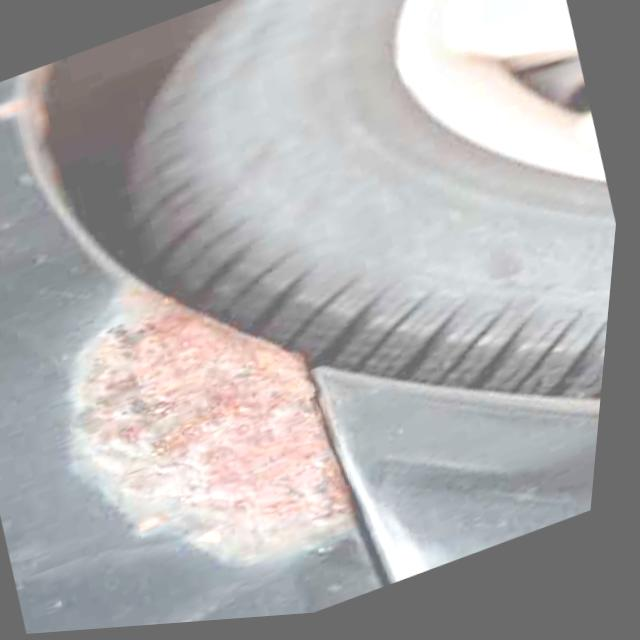corrosion: (83, 287, 363, 568)
